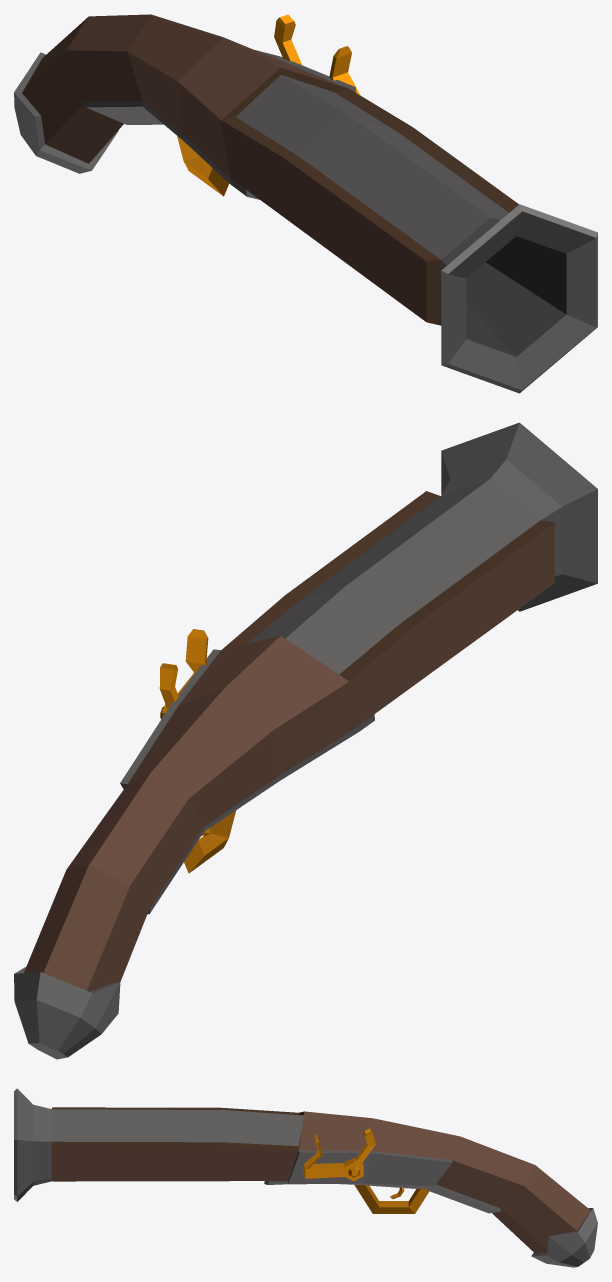
File: Gun_01.glb
3 views of the same model, one above another, from view 1: azimuth 30°, elevation 25°; view 2: azimuth 150°, elevation 25°; view 3: azimuth 270°, elevation 25° (orthographic). The views are drawn at different scales.
Visible parts, largest first — view 1: Gun_01; view 2: Gun_01; view 3: Gun_01.
Boxes of the visible parts, x1=… form: Gun_01: x1=14, y1=14, x2=597, y2=393; Gun_01: x1=14, y1=422, x2=597, y2=1059; Gun_01: x1=14, y1=1088, x2=597, y2=1267.
Size of what is drawn, in the model's own units: 0.1199 by 0.2105 by 0.6213.
1 material, 1 textured.
